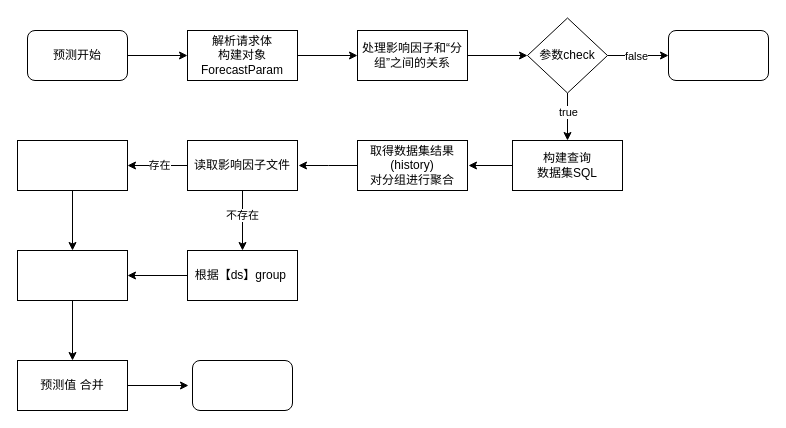
Some shapes in this 786 by 428 pixel diagram are drawn without their labels. Here are the shapes that lost their labels. From the top down, the centre of each, then its label:
At pixel 718 55: "return".
At pixel 72 165: "分组".
At pixel 72 275: "预测".
At pixel 242 385: "return history forecast".
